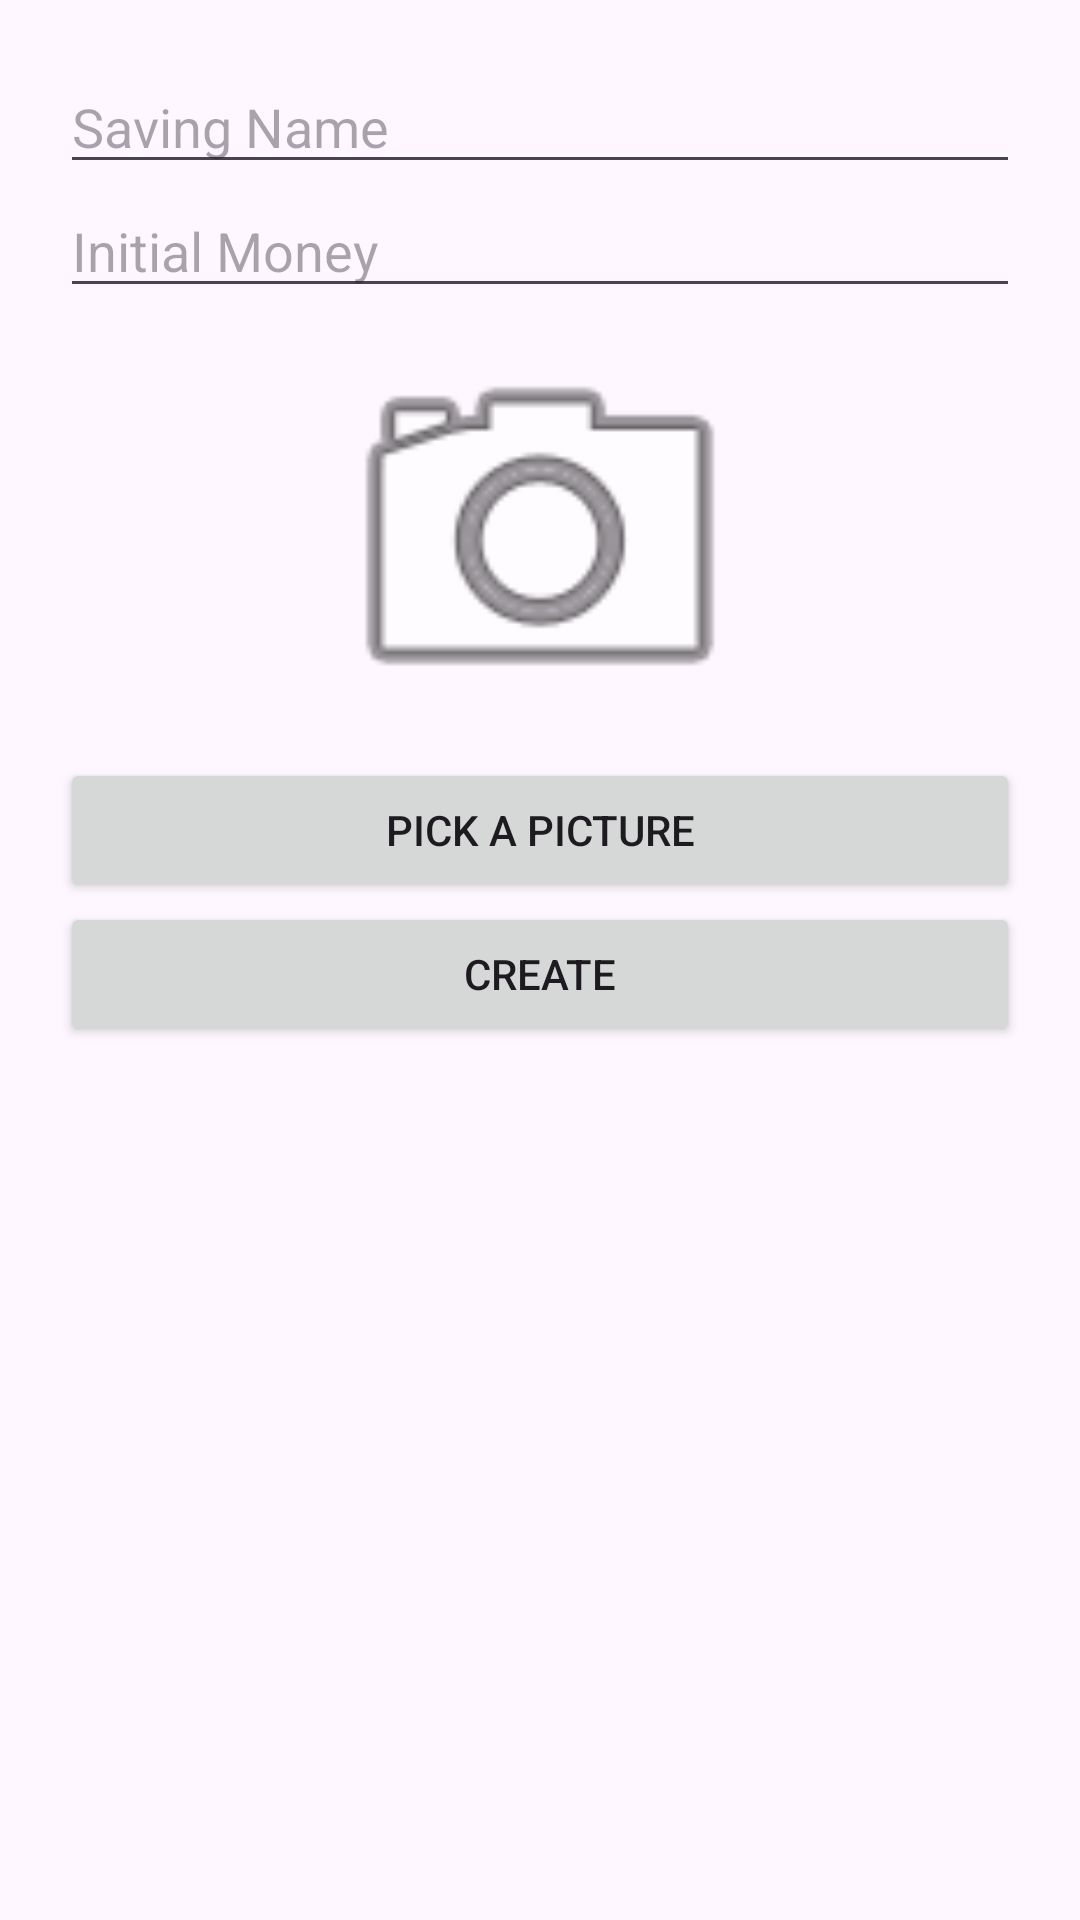

Where to tap for icons on this 1080 x 1920 app screen, as (x=x, y=y):
camera: (x=540, y=526)
